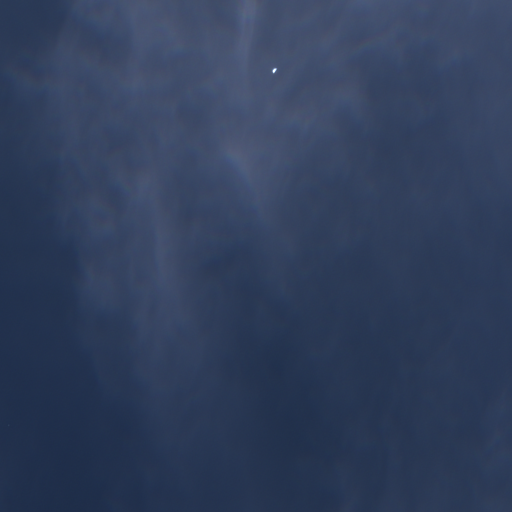Iceberg: (272, 68, 276, 73)
